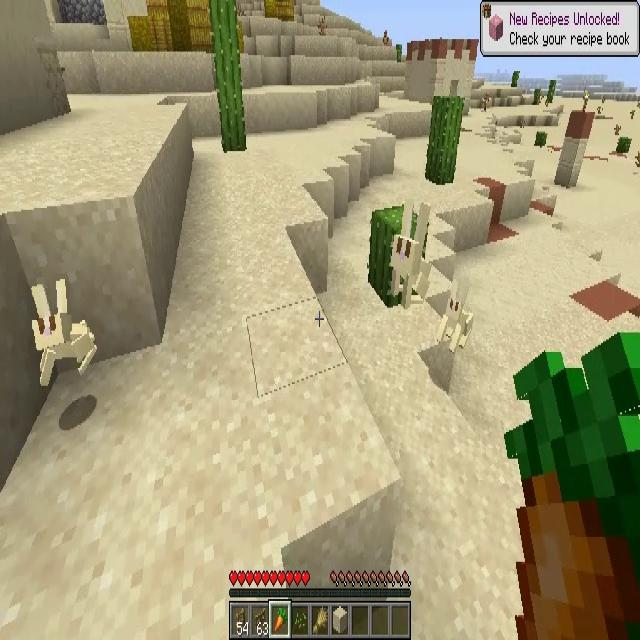rabbit: (31, 279, 96, 386), (391, 202, 434, 310), (439, 276, 473, 350)
